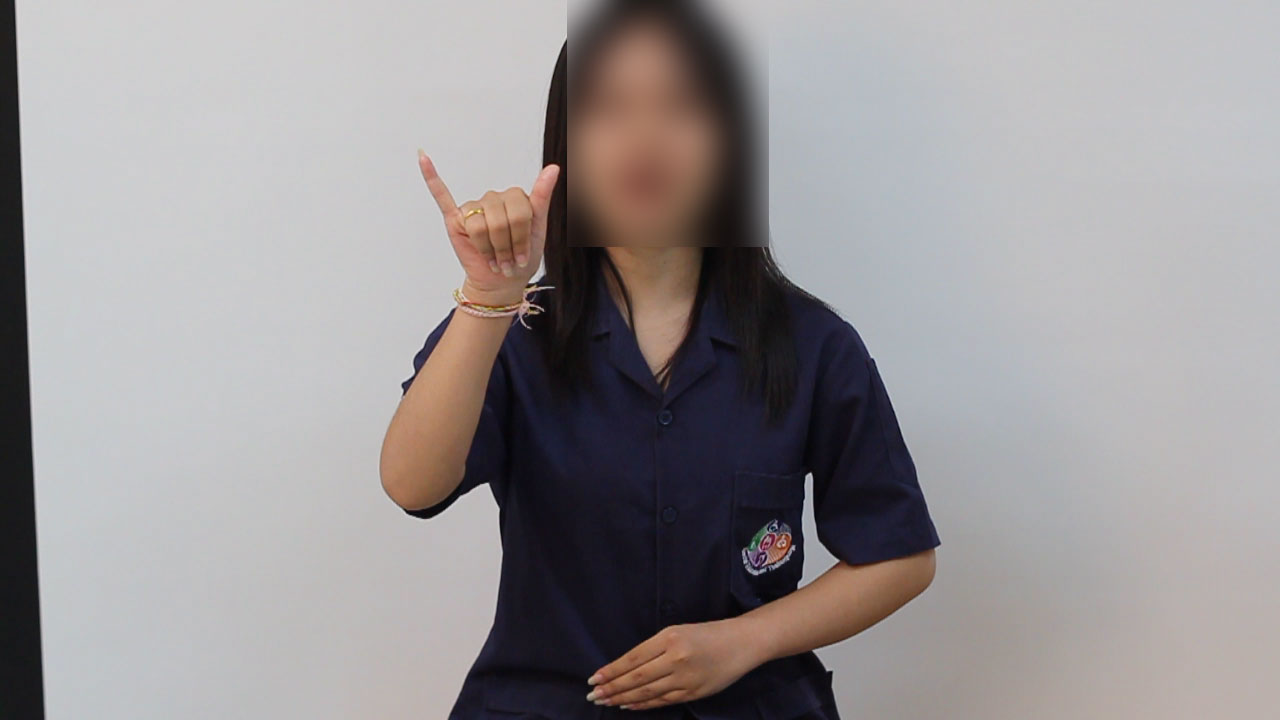yor: (405, 144, 576, 299)
